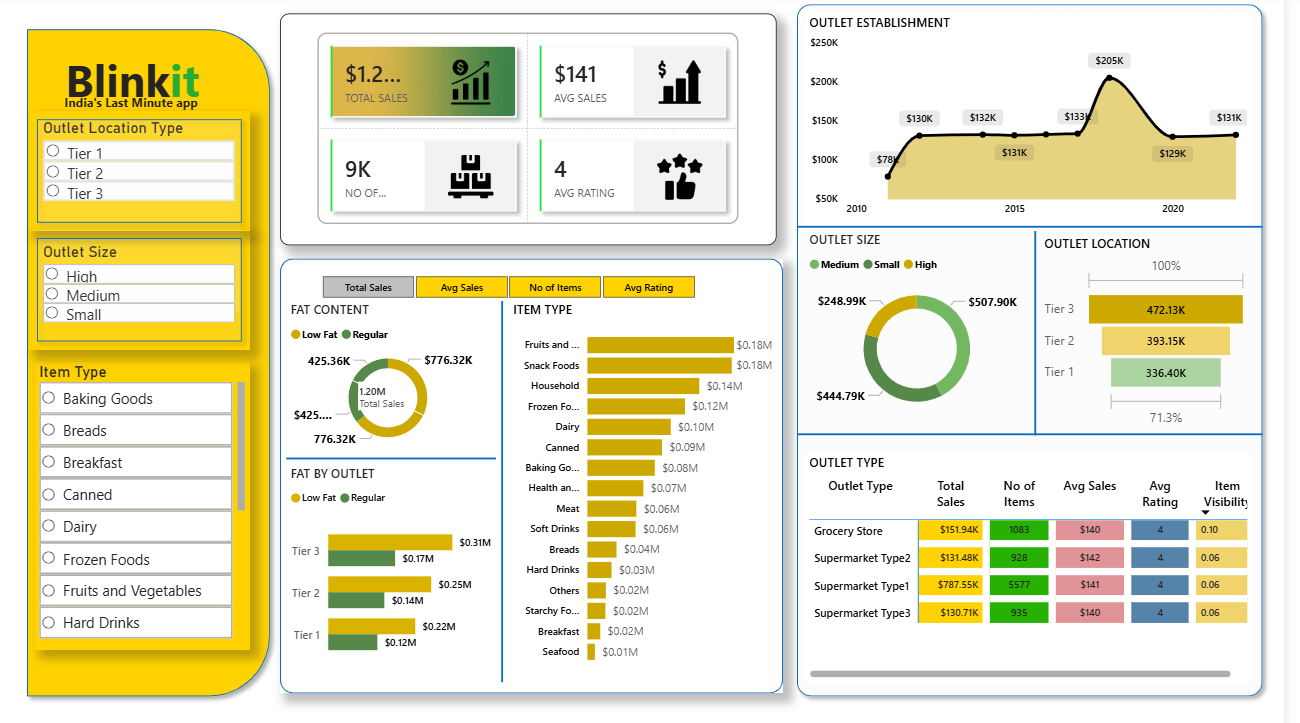

Layout of this report page (visuals, bound fields, positions):
{"tool":"powerbi","page":{"name":"Page 1","canvas":[1400,800],"ordinal":0},"visuals":[{"type":"shape","box":[305.7,285.7,548.6,474.3],"z":0},{"type":"shape","box":[20,27.1,282.9,745.7],"z":1000},{"type":"textbox","box":[52.9,52.9,220,82.9],"z":2000},{"type":"textbox","box":[65.7,102.9,172.9,32.9],"z":3000},{"type":"cardVisual","fields":{"Data":["BlinkIT Grocery Data.Total Sales","BlinkIT Grocery Data.Avg Sales","BlinkIT Grocery Data.No of Items","BlinkIT Grocery Data.Avg Rating"]},"box":[305.7,18.6,541.4,252.9],"z":4000},{"type":"shape","box":[860,0,525.7,772.9],"z":5000},{"type":"donutChart","title":"FAT CONTENT","fields":{"Y":["BlinkIT Grocery Data.Total Sales","Sum(BlinkIT Grocery Data.Sales)"],"Category":["BlinkIT Grocery Data.Item Fat Content"]},"box":[312.2,332.7,222.2,166.3],"z":6000},{"type":"slicer","fields":{"Values":["Metrics.Metrics"]},"box":[325.7,298.6,455.7,34.3],"z":7000},{"type":"cardVisual","fields":{"Data":["Sum(BlinkIT Grocery Data.Sales)"]},"box":[385.7,415.7,68.6,41.4],"z":8000},{"type":"clusteredBarChart","title":"FAT BY OUTLET","fields":{"Y":["BlinkIT Grocery Data.Total Sales"],"Category":["BlinkIT Grocery Data.Outlet Location Type"],"Series":["BlinkIT Grocery Data.Item Fat Content"]},"box":[312.9,511.4,228.6,227.1],"z":9000},{"type":"shape","box":[312.2,344.9,229,319],"z":10000},{"type":"shape","box":[1122.9,255.7,11.4,222.9],"z":11000},{"type":"barChart","title":"ITEM TYPE","fields":{"Y":["BlinkIT Grocery Data.Total Sales"],"Category":["BlinkIT Grocery Data.Item Type"]},"box":[554.3,332.9,292.9,405.7],"z":12000},{"type":"lineChart","title":"OUTLET ESTABLISHMENT","fields":{"Category":["BlinkIT Grocery Data.Outlet Establishment Year"],"Y":["BlinkIT Grocery Data.Total Sales"]},"box":[878.6,18.6,487.1,230],"z":13000},{"type":"shape","box":[870,474.3,507.1,7.1],"z":14000},{"type":"donutChart","title":"OUTLET SIZE","fields":{"Y":["BlinkIT Grocery Data.Total Sales"],"Category":["BlinkIT Grocery Data.Outlet Size"]},"box":[878.6,255.7,244.3,211.4],"z":15000},{"type":"shape","box":[541.4,332.9,12.9,415.7],"z":16000},{"type":"funnel","title":"OUTLET LOCATION","fields":{"Category":["BlinkIT Grocery Data.Outlet Location Type"],"Y":["Sum(BlinkIT Grocery Data.Sales)"]},"box":[1134.3,260,231.4,214.3],"z":17000},{"type":"shape","box":[870,248.6,507.1,7.1],"z":18000},{"type":"pivotTable","title":"OUTLET TYPE","fields":{"Rows":["BlinkIT Grocery Data.Outlet Type"],"Values":["BlinkIT Grocery Data.Total Sales","BlinkIT Grocery Data.No of Items","BlinkIT Grocery Data.Avg Sales","BlinkIT Grocery Data.Avg Rating","Avg(BlinkIT Grocery Data.Item Visibility)"]},"box":[878.6,498.6,487.1,250],"z":19000},{"type":"listSlicer","fields":{"Values":["BlinkIT Grocery Data.Outlet Location Type"]},"box":[42.3,133.6,219.5,211.3],"z":21001},{"type":"listSlicer","fields":{"Values":["BlinkIT Grocery Data.Outlet Size"]},"box":[42.3,268.6,219.5,199],"z":21002},{"type":"listSlicer","fields":{"Values":["BlinkIT Grocery Data.Item Type"]},"box":[38.2,399.5,234.5,313.6],"z":21003},{"type":"shape","box":[31.4,125.4,241.3,130.9],"z":21004},{"type":"shape","box":[31.4,254.9,241.3,130.9],"z":21005}]}

Visuals, with their boxes in screenshot pixels (x1, y1, x2, y2), scaled from the page's 1400x800 canvas onto the 1300x723 screenshot:
shape: box(284, 258, 793, 687)
shape: box(19, 24, 281, 698)
textbox: box(49, 48, 253, 123)
textbox: box(61, 93, 222, 123)
cardVisual - BlinkIT Grocery Data.Total Sales x BlinkIT Grocery Data.Avg Sales: box(284, 17, 787, 245)
shape: box(799, 0, 1287, 699)
"FAT CONTENT" donutChart: box(290, 301, 496, 451)
slicer - Metrics.Metrics: box(302, 270, 726, 301)
cardVisual - Sum(BlinkIT Grocery Data.Sales): box(358, 376, 422, 413)
"FAT BY OUTLET" clusteredBarChart: box(291, 462, 503, 667)
shape: box(290, 312, 503, 600)
shape: box(1043, 231, 1053, 433)
"ITEM TYPE" barChart: box(515, 301, 787, 668)
"OUTLET ESTABLISHMENT" lineChart: box(816, 17, 1268, 225)
shape: box(808, 429, 1279, 435)
"OUTLET SIZE" donutChart: box(816, 231, 1043, 422)
shape: box(503, 301, 515, 677)
"OUTLET LOCATION" funnel: box(1053, 235, 1268, 429)
shape: box(808, 225, 1279, 231)
"OUTLET TYPE" pivotTable: box(816, 451, 1268, 677)
listSlicer - BlinkIT Grocery Data.Outlet Location Type: box(39, 121, 243, 312)
listSlicer - BlinkIT Grocery Data.Outlet Size: box(39, 243, 243, 423)
listSlicer - BlinkIT Grocery Data.Item Type: box(35, 361, 253, 644)
shape: box(29, 113, 253, 232)
shape: box(29, 230, 253, 349)
